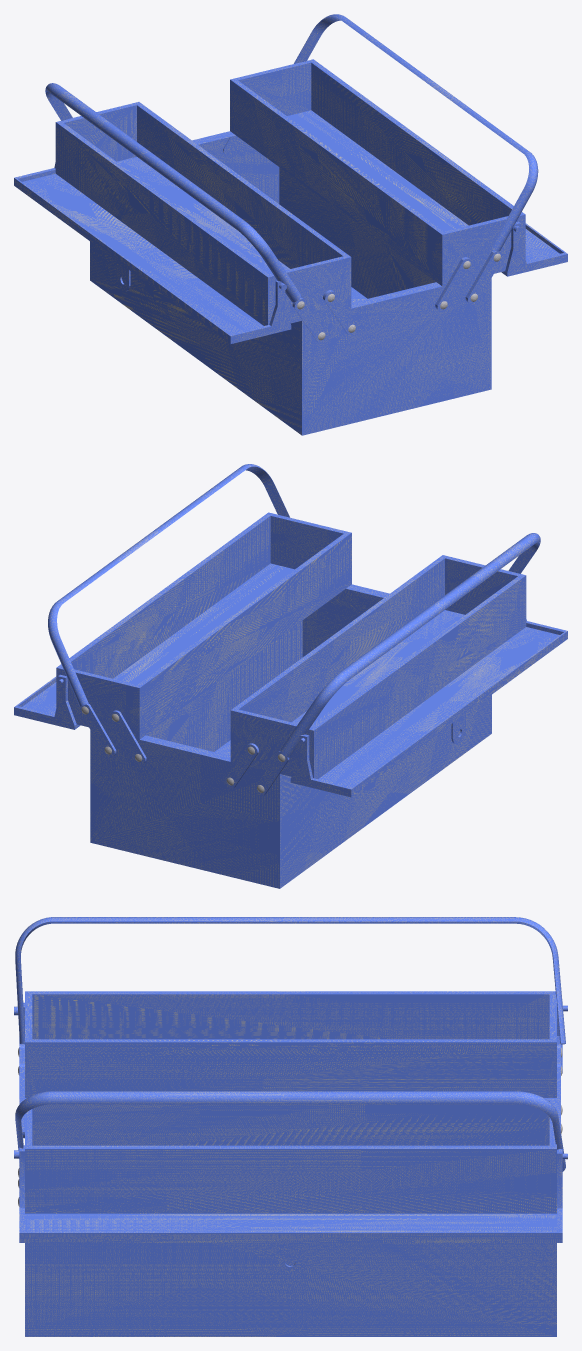
Rendered from toolbox_metal_blue.dae.
The picture shows the model from 3 angles, top to bottom: view 1: azimuth 30°, elevation 25°; view 2: azimuth 150°, elevation 25°; view 3: azimuth 270°, elevation 25°; orthographic projection. The views are drawn at different scales.
Visible parts, largest first — view 1: SketchUp, SketchUp_038, SketchUp_043, SketchUp_044; view 2: SketchUp, SketchUp_038, SketchUp_043, SketchUp_044, SketchUp_017, SketchUp_020, SketchUp_013, SketchUp_023; view 3: SketchUp, SketchUp_043, SketchUp_038.
Boxes of the visible parts, <box> form: SketchUp: <box>14,59,567,435</box>; SketchUp_038: <box>45,83,300,302</box>; SketchUp_043: <box>294,14,538,251</box>; SketchUp_044: <box>287,114,452,231</box>; SketchUp: <box>14,512,567,888</box>; SketchUp_038: <box>280,533,540,757</box>; SketchUp_043: <box>48,464,289,706</box>; SketchUp_044: <box>129,567,294,684</box>; SketchUp_017: <box>109,710,146,765</box>; SketchUp_020: <box>79,703,116,757</box>; SketchUp_013: <box>224,743,258,788</box>; SketchUp_023: <box>254,751,289,795</box>; SketchUp: <box>19,991,562,1336</box>; SketchUp_043: <box>15,1091,565,1171</box>; SketchUp_038: <box>15,917,565,1044</box>.
Bounding box in the file's own units: 0.89 × 1.01 × 0.5499.
